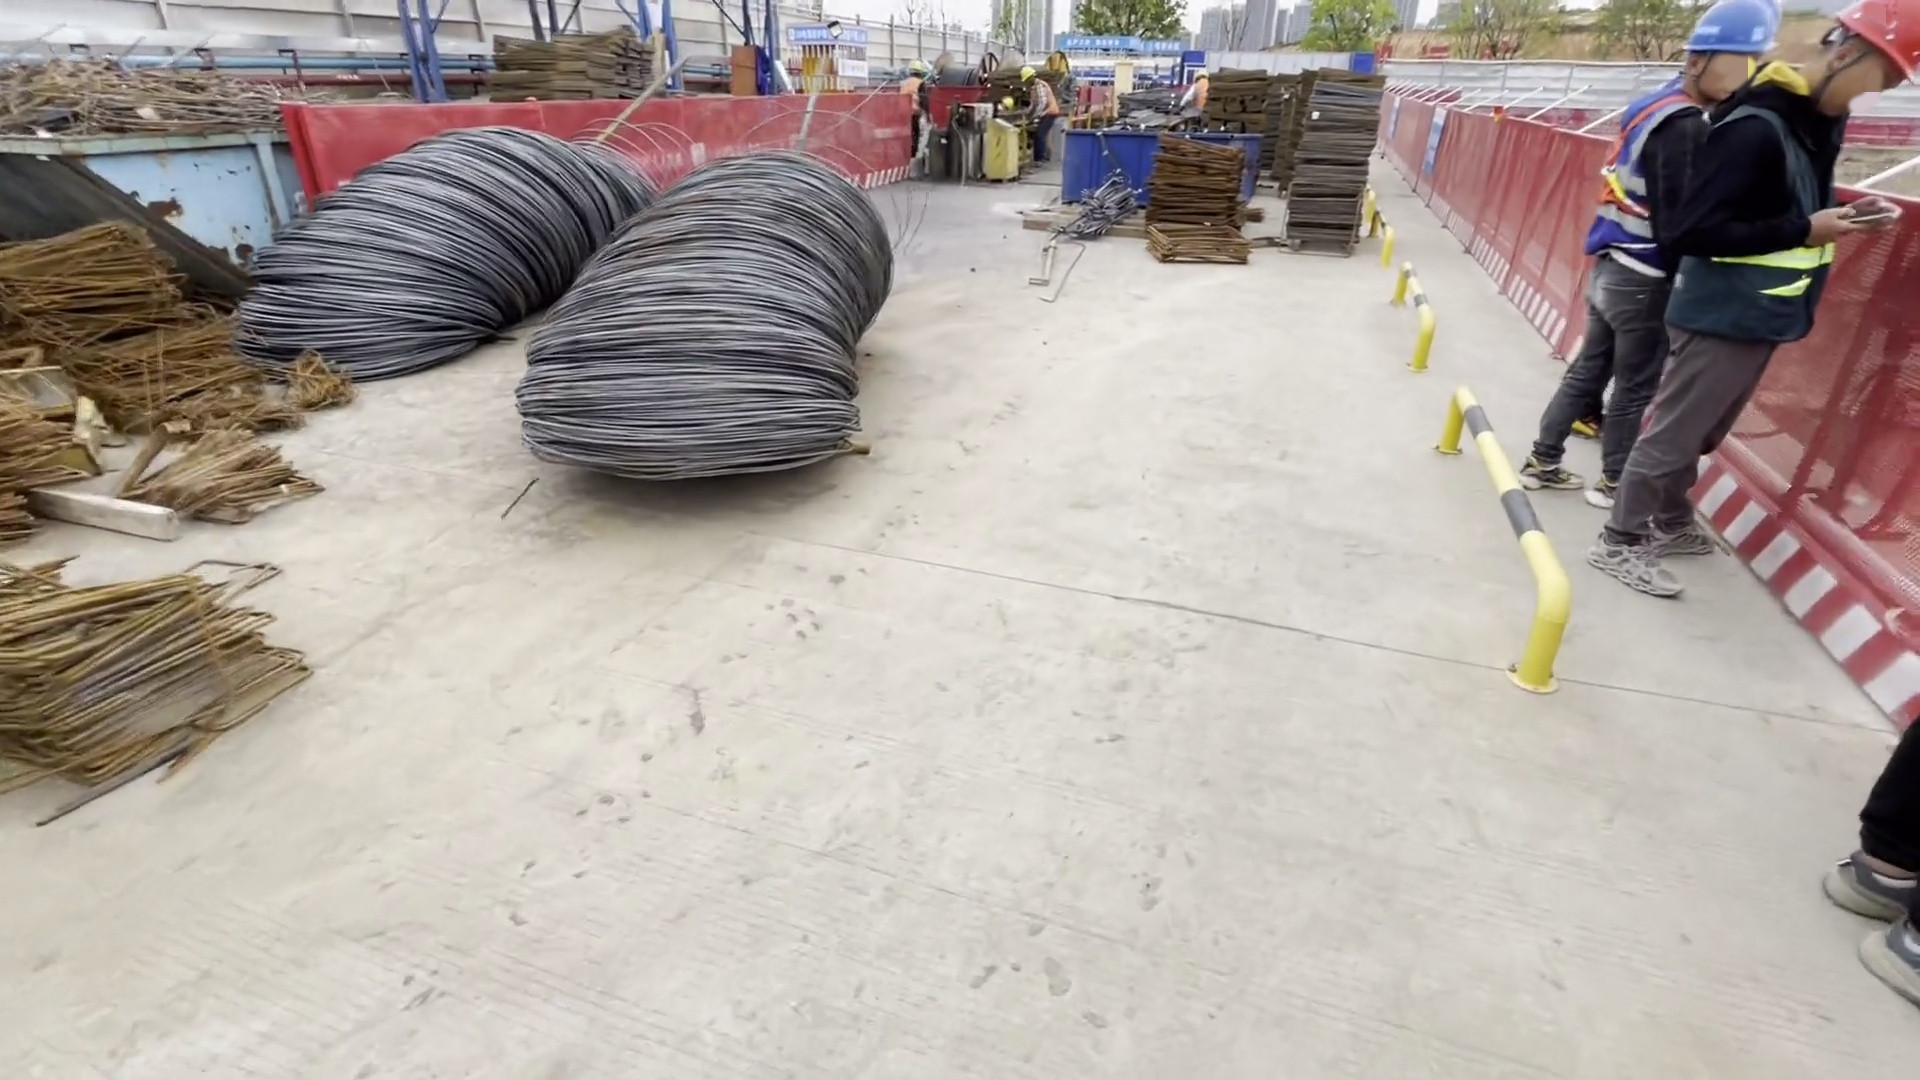fence: (263, 93, 910, 213), (1363, 93, 1583, 360)
helmet: (1838, 3, 1917, 79), (1681, 2, 1782, 53), (1020, 66, 1041, 82), (910, 61, 923, 72)
hopper: (1057, 127, 1159, 204)
person: (1596, 1, 1897, 582), (1510, 1, 1762, 485), (1019, 68, 1056, 160), (897, 60, 930, 161), (1183, 70, 1208, 123)
vest: (1595, 95, 1657, 254)
